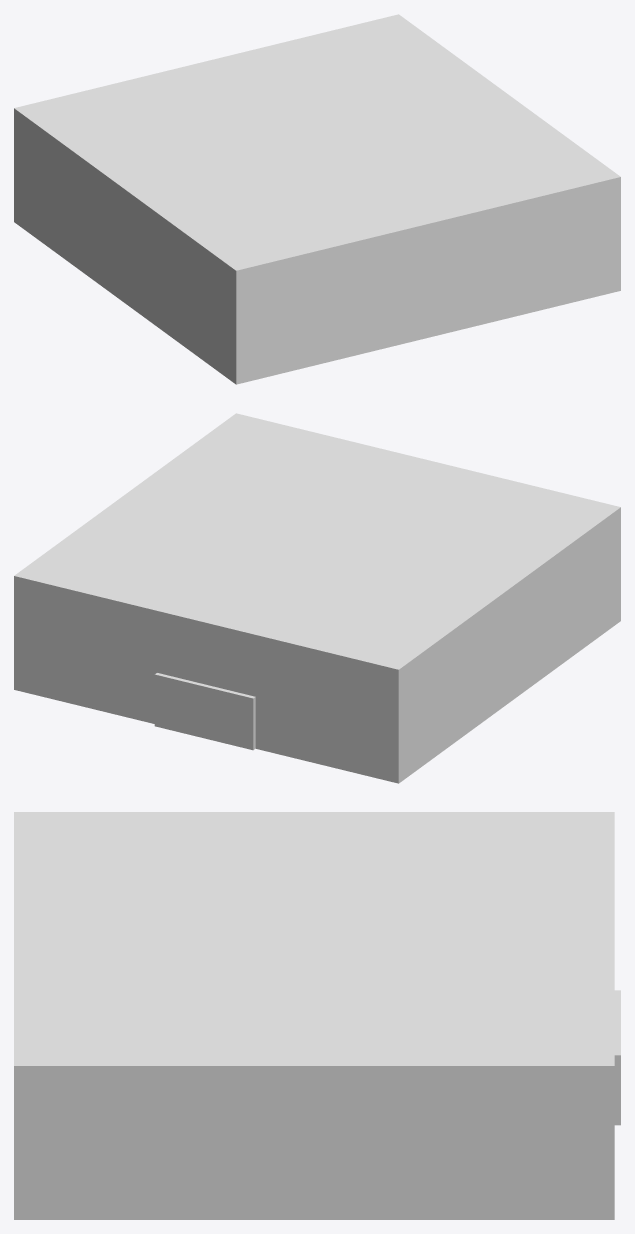
Rendered from Itr_Trashcan2_Cap_01.FBX.
3 renders of one model, top to bottom at view 1: azimuth 30°, elevation 25°; view 2: azimuth 150°, elevation 25°; view 3: azimuth 270°, elevation 25°, orthographic. The views are drawn at different scales.
Visible parts, largest first — view 1: Itr_Trashcan2_Cap_01; view 2: Itr_Trashcan2_Cap_01; view 3: Itr_Trashcan2_Cap_01.
Boxes of the visible parts, x1,y1,x2,y2 form: Itr_Trashcan2_Cap_01: (14, 14, 620, 384); Itr_Trashcan2_Cap_01: (14, 413, 620, 783); Itr_Trashcan2_Cap_01: (14, 812, 620, 1219).
Bounding box in the file's own units: 14.85 × 4.2 × 15.01.
